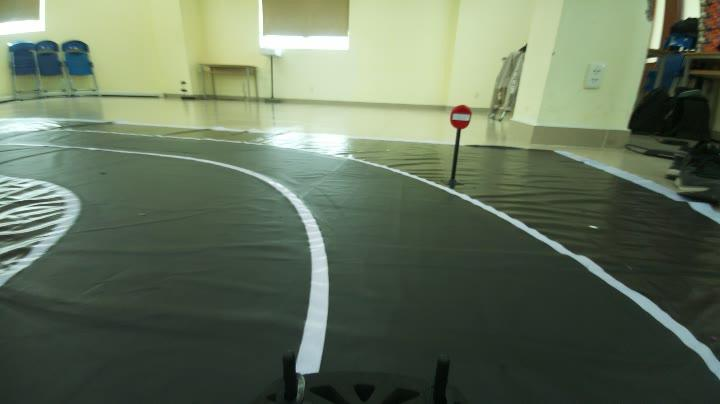no_entry: (446, 96, 475, 135)
